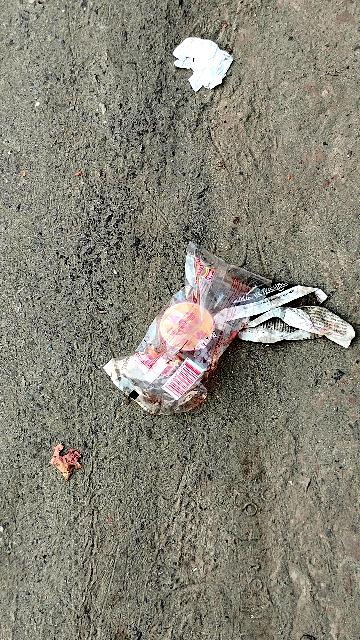polythene: (104, 241, 260, 426)
